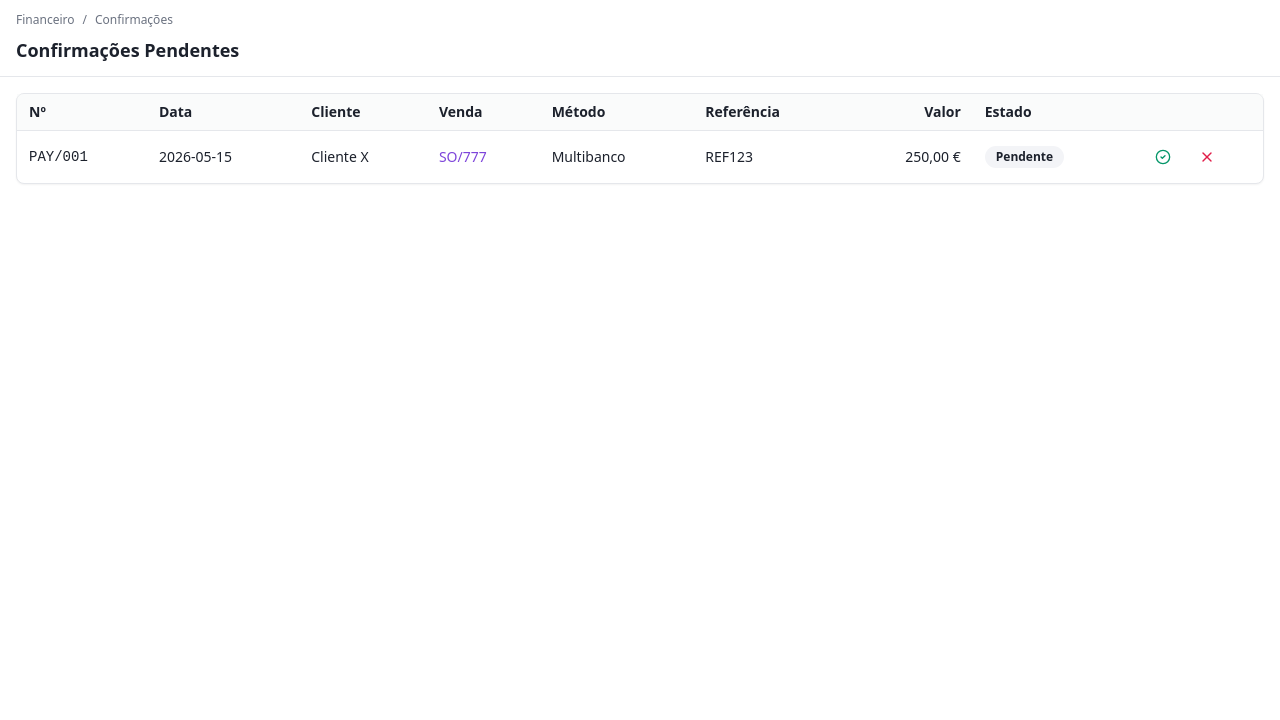
Test: PendingConfirmationsPage (F23-D1) › rejeitar exige motivo
Expected: the text "PAY/001" is shown, [17,130,147,183]
Click the button titled "Rejeitar": click(1207, 157) [1187,139,1227,175]
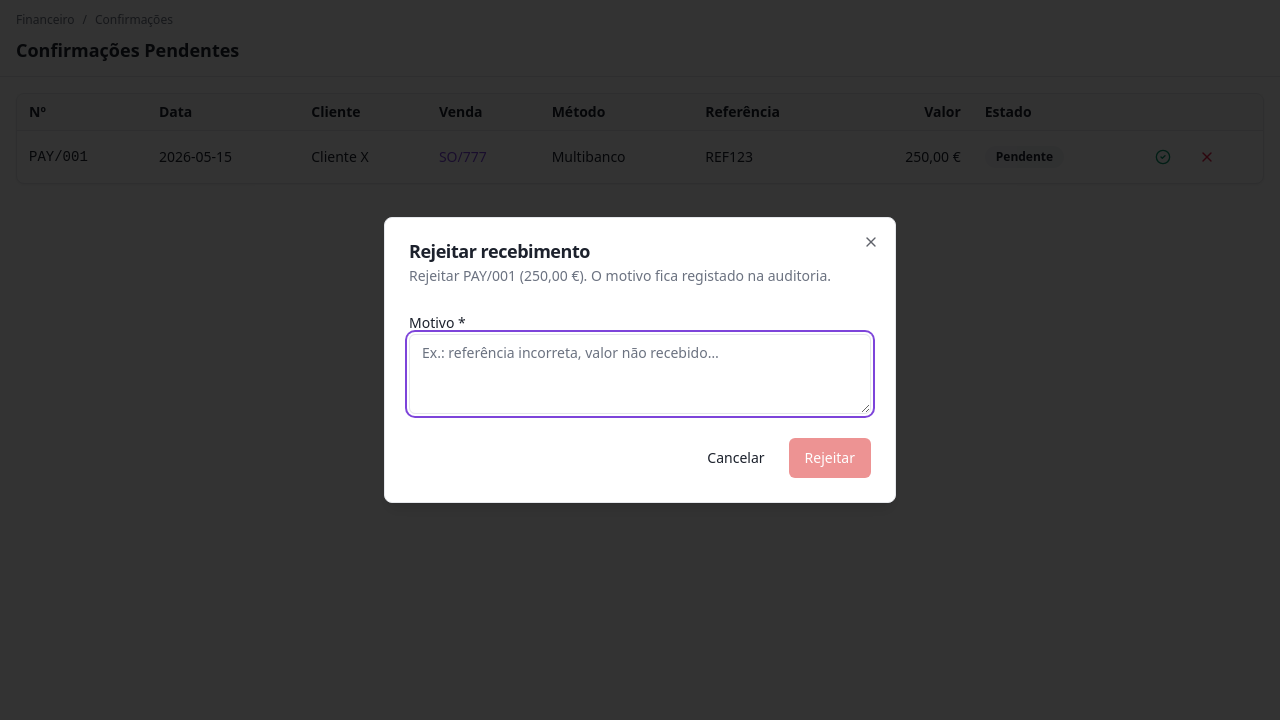
Expected: the button "Rejeitar" is disabled, [789,438,871,478]
